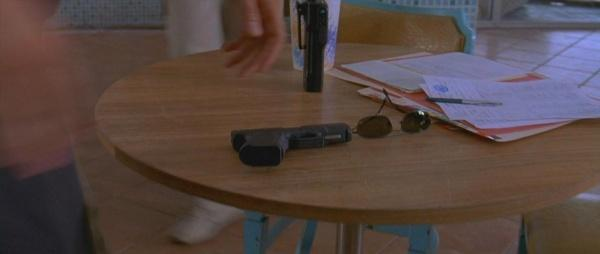Gun: (228, 122, 354, 168)
